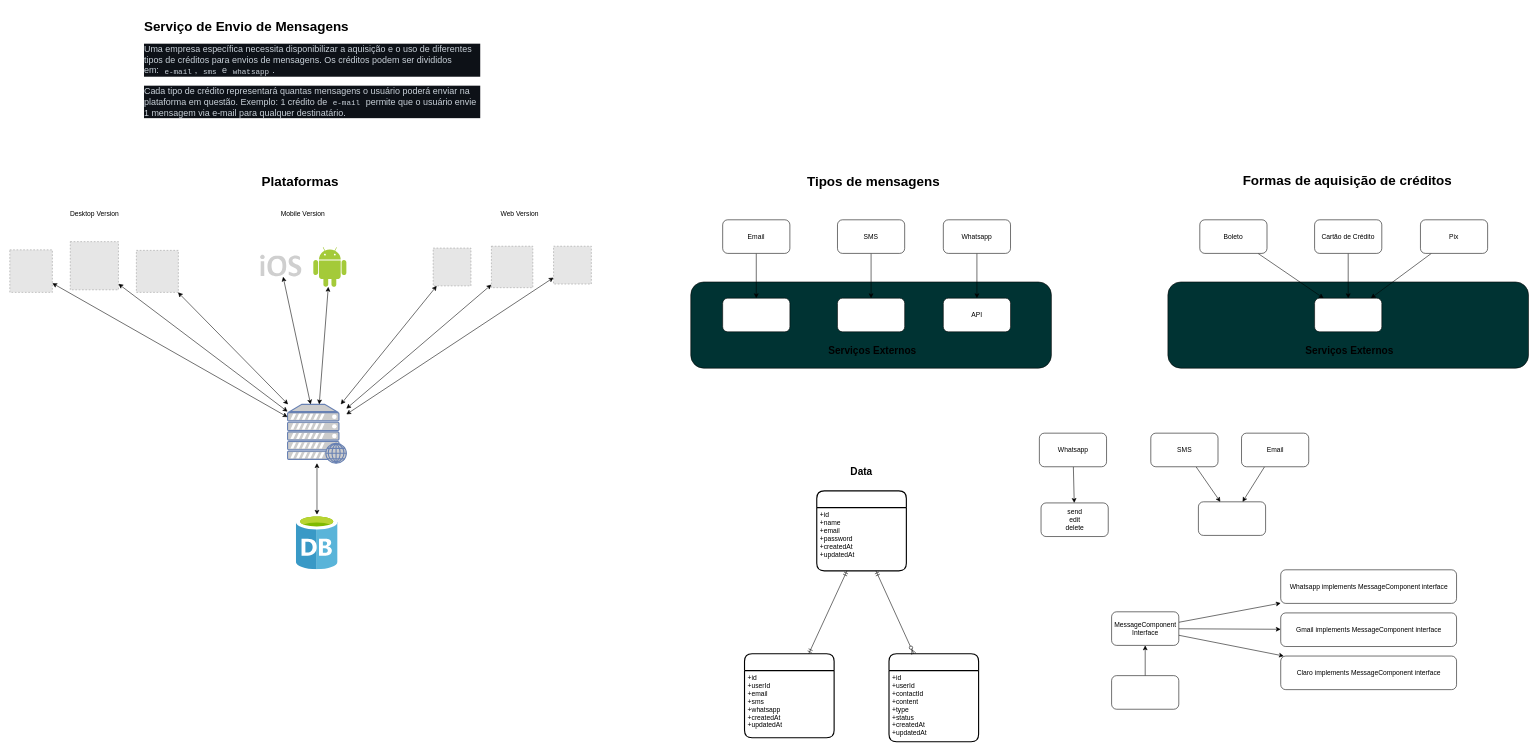
Image size: 1538x752. Some labels were removed from this diagram. Grey dashed boxes stand in for pictures. The box of each missing label's shape, as (x1, y1, x2, y2) in pixels:
Componente de pagamento: (1314, 298, 1382, 332)
Diferentes Clientes de Emails: (722, 298, 790, 332)
Messages: (888, 653, 979, 742)
Methods send edit delete: (1111, 675, 1179, 709)
Operadoras Telefônicas: (837, 298, 905, 332)
send delete: (1198, 501, 1266, 535)
Users: (816, 490, 907, 571)
Wallets: (744, 653, 834, 738)
